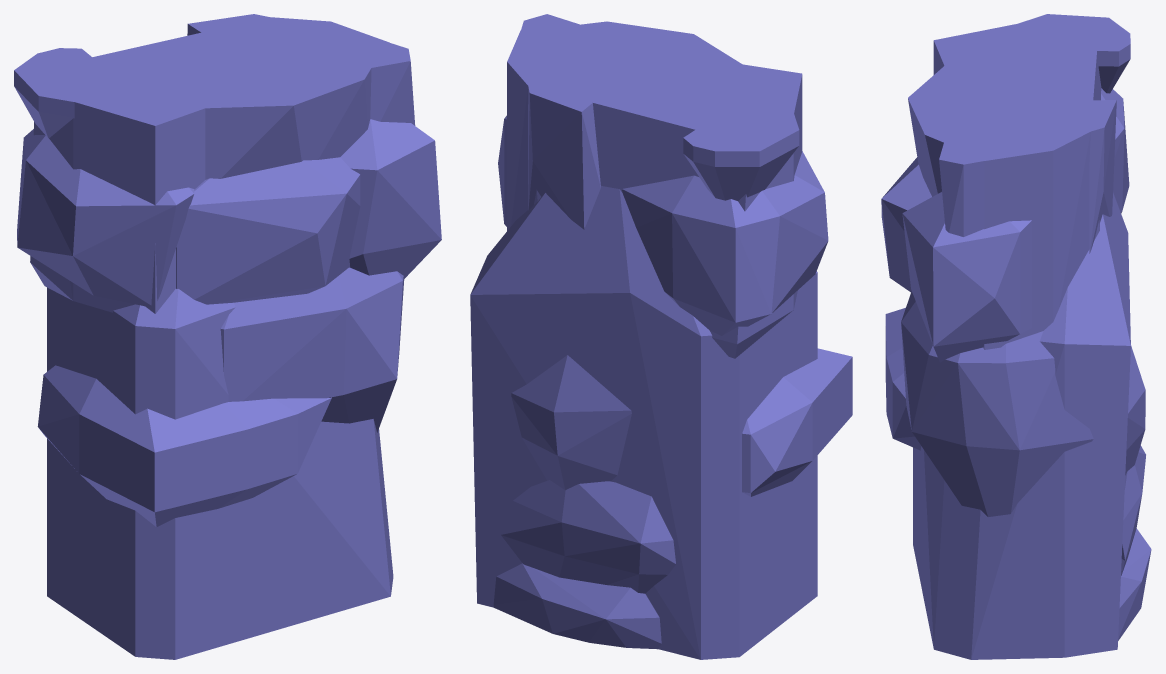
Rendered from Cliff_Plateau_03_Collider_01.FBX.
3 views of the same model, side by side, from view 1: azimuth 30°, elevation 25°; view 2: azimuth 150°, elevation 25°; view 3: azimuth 270°, elevation 25° (orthographic). The views are drawn at different scales.
Parts seen in each view (by area): view 1: COLLIDER2, COLLIDER3, COLLIDER1, COLLIDER9, COLLIDER11, COLLIDER4, COLLIDER5, COLLIDER10, COLLIDER8, COLLIDER6, COLLIDER7; view 2: COLLIDER2, COLLIDER3, COLLIDER4, COLLIDER14, COLLIDER13, COLLIDER1, COLLIDER12, COLLIDER7, COLLIDER8, COLLIDER5, COLLIDER6, COLLIDER10; view 3: COLLIDER2, COLLIDER3, COLLIDER11, COLLIDER10, COLLIDER5, COLLIDER6, COLLIDER8, COLLIDER7, COLLIDER9, COLLIDER1, COLLIDER12, COLLIDER13 (+2 smaller).
Boxes of the visible parts, left/top/right/bottom form: COLLIDER2: left=47, top=287, right=393, bottom=659; COLLIDER3: left=30, top=17, right=389, bottom=313; COLLIDER1: left=37, top=365, right=331, bottom=527; COLLIDER9: left=176, top=157, right=360, bottom=304; COLLIDER11: left=220, top=267, right=404, bottom=432; COLLIDER4: left=17, top=129, right=194, bottom=307; COLLIDER5: left=204, top=55, right=371, bottom=179; COLLIDER10: left=340, top=119, right=441, bottom=279; COLLIDER8: left=14, top=48, right=91, bottom=138; COLLIDER6: left=346, top=42, right=415, bottom=125; COLLIDER7: left=187, top=14, right=269, bottom=35; COLLIDER2: left=470, top=186, right=817, bottom=659; COLLIDER3: left=507, top=30, right=802, bottom=358; COLLIDER4: left=622, top=151, right=828, bottom=335; COLLIDER14: left=501, top=480, right=675, bottom=593; COLLIDER13: left=511, top=355, right=631, bottom=490; COLLIDER1: left=742, top=348, right=852, bottom=496; COLLIDER12: left=493, top=563, right=661, bottom=649; COLLIDER7: left=528, top=86, right=600, bottom=229; COLLIDER8: left=683, top=114, right=799, bottom=200; COLLIDER5: left=564, top=21, right=742, bottom=64; COLLIDER6: left=521, top=14, right=584, bottom=36; COLLIDER10: left=498, top=115, right=506, bottom=226; COLLIDER2: left=913, top=192, right=1130, bottom=659; COLLIDER3: left=933, top=23, right=1101, bottom=349; COLLIDER11: left=901, top=293, right=1093, bottom=516; COLLIDER10: left=902, top=192, right=1031, bottom=362; COLLIDER5: left=908, top=65, right=977, bottom=196; COLLIDER6: left=939, top=139, right=986, bottom=236; COLLIDER8: left=1018, top=14, right=1130, bottom=93; COLLIDER7: left=1089, top=100, right=1116, bottom=253; COLLIDER9: left=881, top=157, right=931, bottom=293; COLLIDER1: left=885, top=307, right=921, bottom=450; COLLIDER12: left=1118, top=528, right=1151, bottom=640; COLLIDER13: left=1125, top=345, right=1145, bottom=475.
Bounding box in the file's own units: 454 × 668 × 327.
